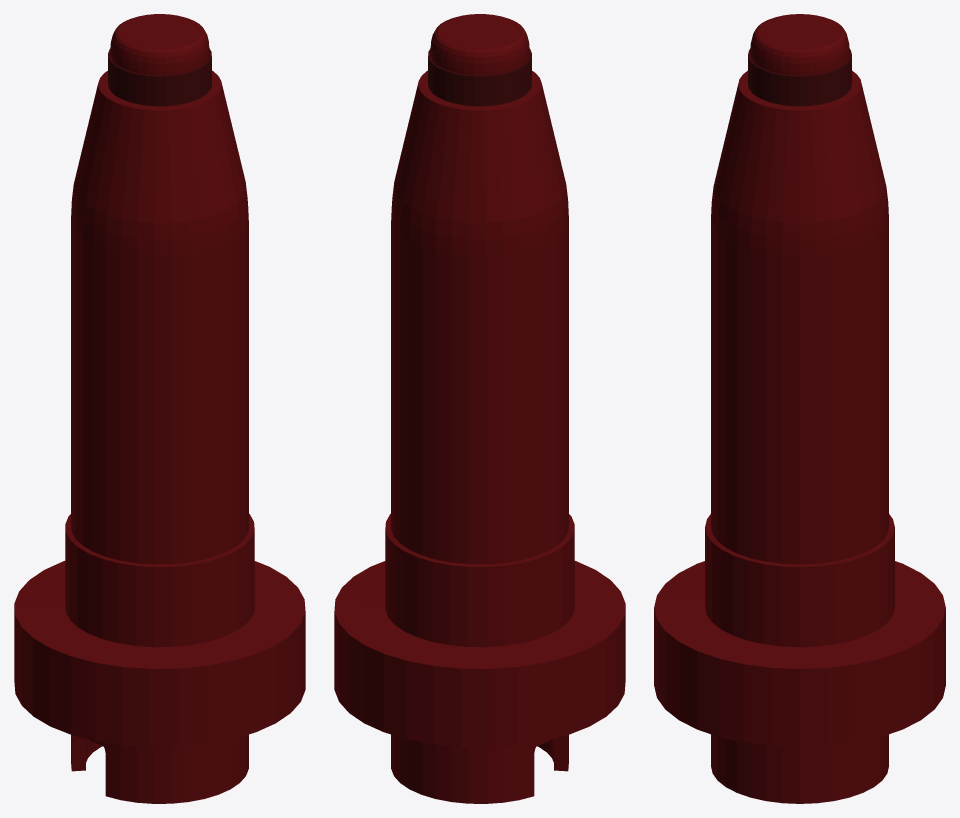
The model's file is red_pole_buoy.obj.
3 renders of one model, left to right at view 1: azimuth 30°, elevation 25°; view 2: azimuth 150°, elevation 25°; view 3: azimuth 270°, elevation 25°, orthographic.
Parts seen in each view (by area): view 1: RedPoleBuoy; view 2: RedPoleBuoy; view 3: RedPoleBuoy.
Boxes of the visible parts, x1,y1,x2,y2 form: RedPoleBuoy: (14,14,305,803); RedPoleBuoy: (334,14,625,803); RedPoleBuoy: (654,14,945,803).
Size of the model in its own units: 0.4161 by 1.16 by 0.4161.
